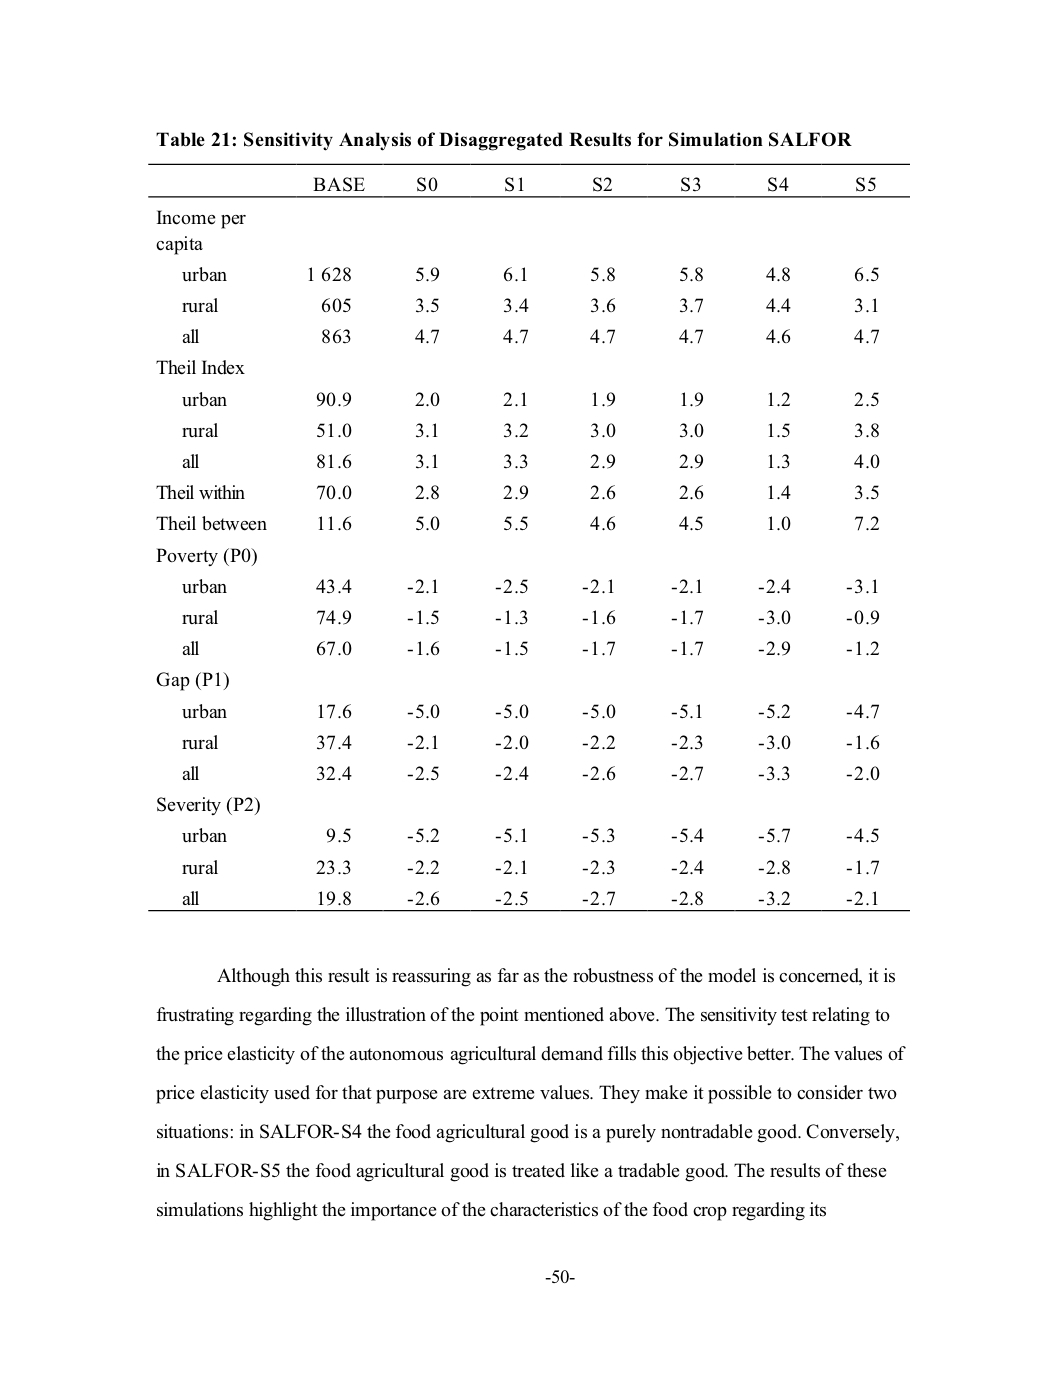Table: (148, 163, 909, 911)
